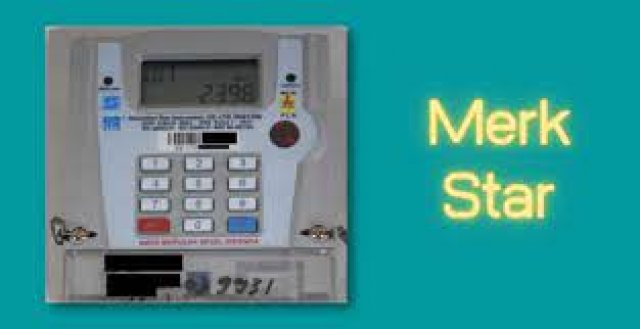box: (140, 59, 260, 105)
